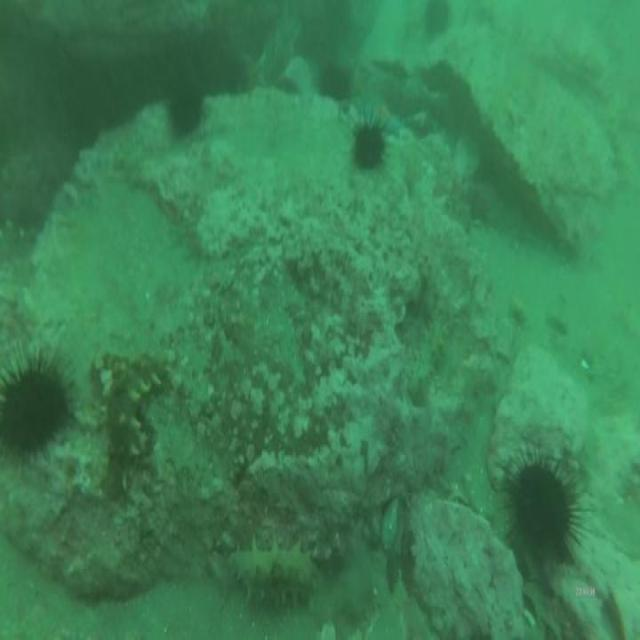echinus: (503, 434, 581, 576), (0, 340, 75, 468), (167, 58, 205, 144), (348, 109, 388, 175), (313, 60, 355, 106), (422, 0, 452, 46)
holothurian: (104, 346, 176, 477), (229, 536, 322, 602), (402, 302, 452, 404)
